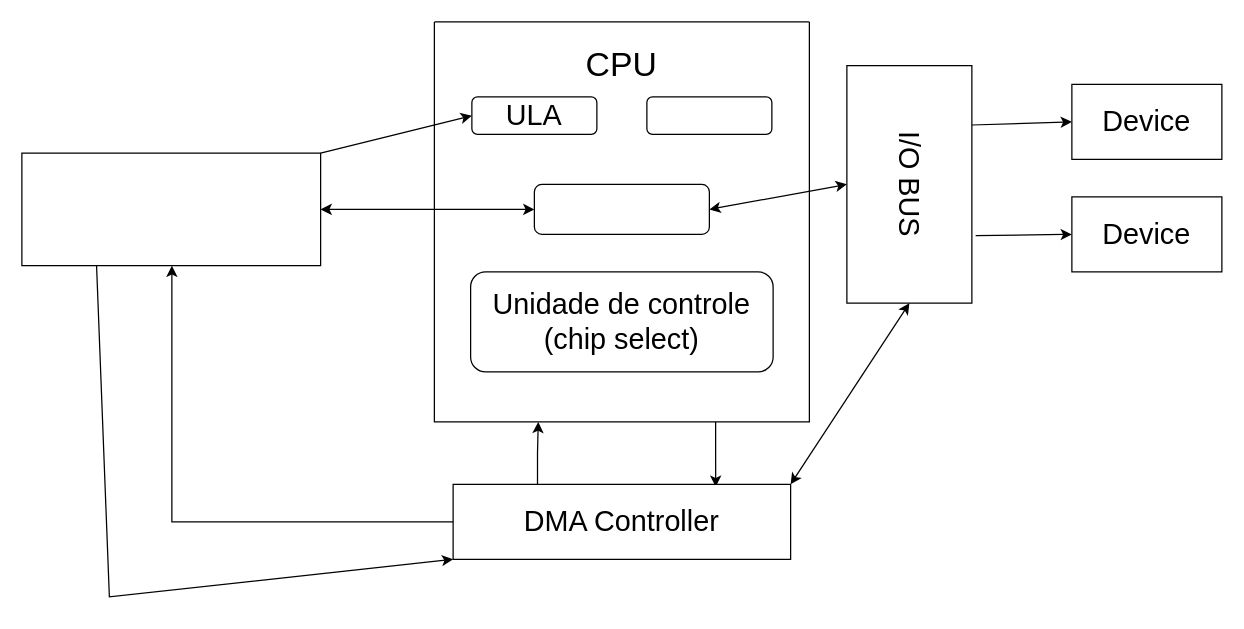
Image size: 1244x629. Some labels were removed from this diagram. The shapes that lost their labels are listed below. From the top down, each one's centre as x and y in pixels, then its label:
At (x=709, y=115): "Registrador".
At (x=171, y=209): "Memória".
At (x=621, y=208): "Barramentos".
